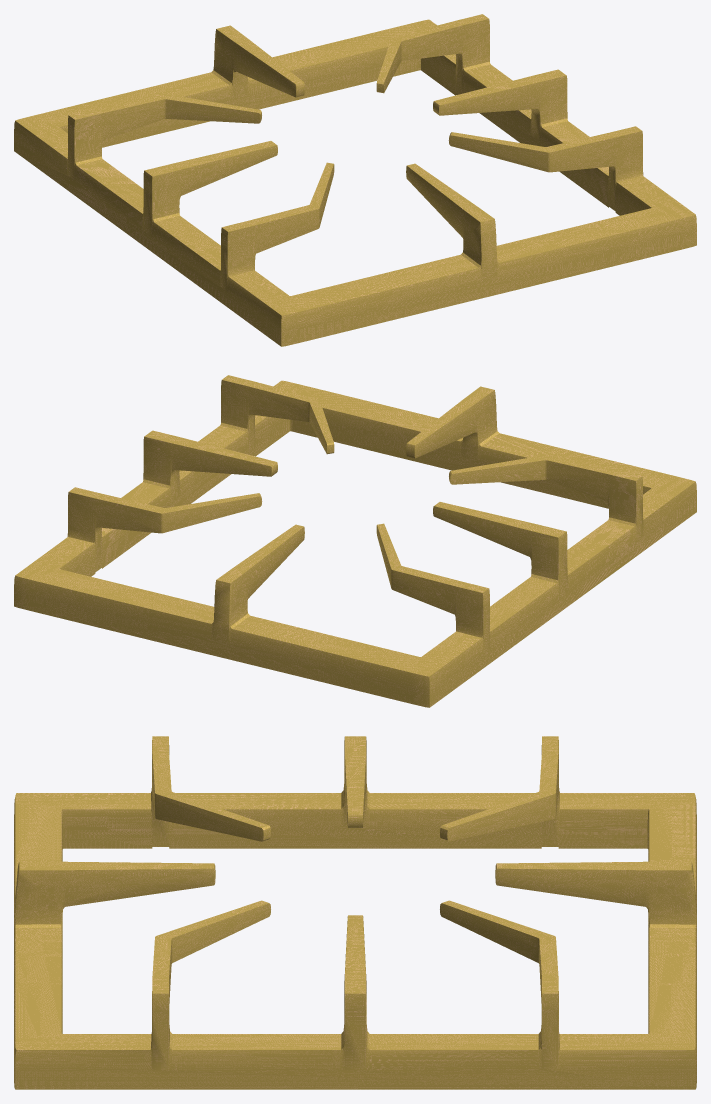
The model's file is original-117.obj.
3 views of the same model, one above another, from view 1: azimuth 30°, elevation 25°; view 2: azimuth 150°, elevation 25°; view 3: azimuth 270°, elevation 25° (orthographic). The views are drawn at different scales.
Parts seen in each view (by area): view 1: Plane017_1/Plane017/mesh105/mesh105-geometry#mesh105-geometry; view 2: Plane017_1/Plane017/mesh105/mesh105-geometry#mesh105-geometry; view 3: Plane017_1/Plane017/mesh105/mesh105-geometry#mesh105-geometry.
Boxes of the visible parts, x1,y1,x2,y2 form: Plane017_1/Plane017/mesh105/mesh105-geometry#mesh105-geometry: [14, 14, 696, 346]; Plane017_1/Plane017/mesh105/mesh105-geometry#mesh105-geometry: [14, 375, 696, 707]; Plane017_1/Plane017/mesh105/mesh105-geometry#mesh105-geometry: [14, 736, 696, 1089].
Bounding box in the file's own units: 0.3673 × 0.064 × 0.4109.
